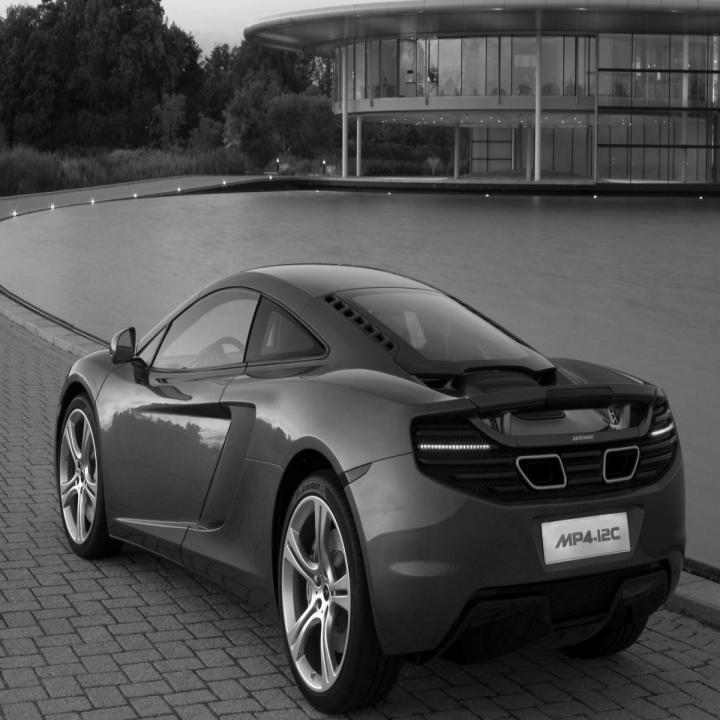car: (53, 261, 687, 715)
plat: (542, 512, 630, 565)
